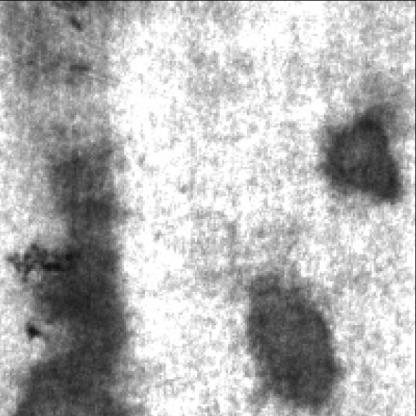patches: (15, 199, 132, 416), (244, 270, 348, 416), (314, 106, 410, 208), (52, 145, 125, 277)
